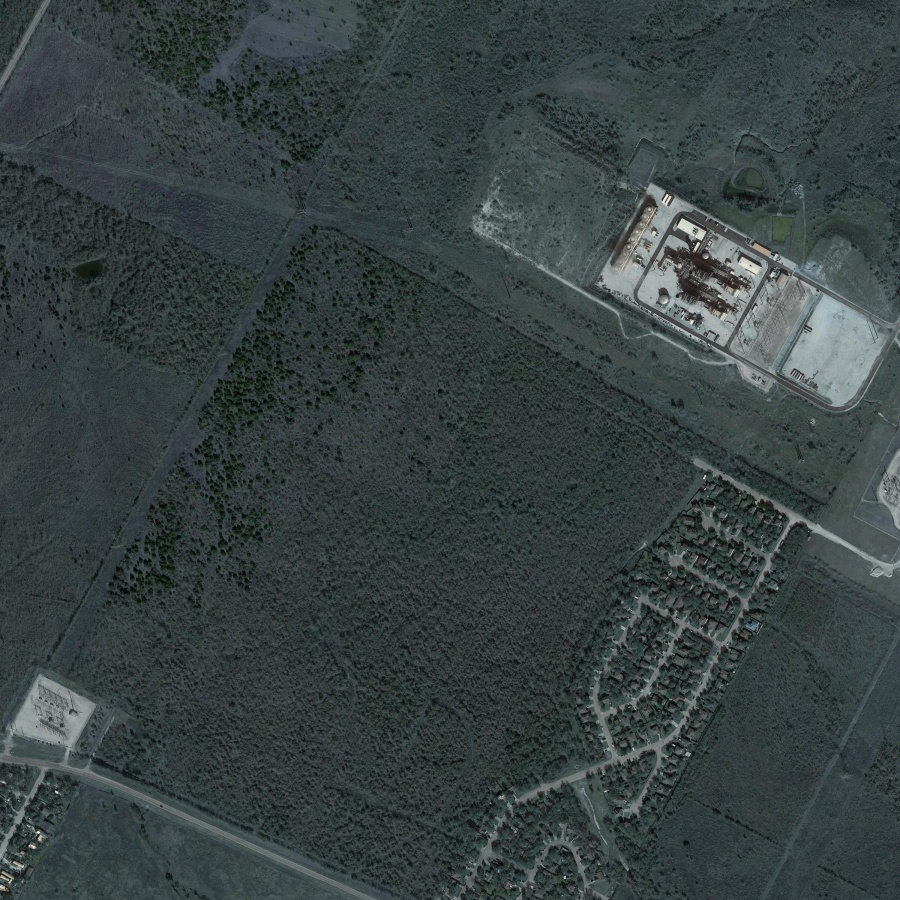PowerPlant: (601, 186, 811, 376)
